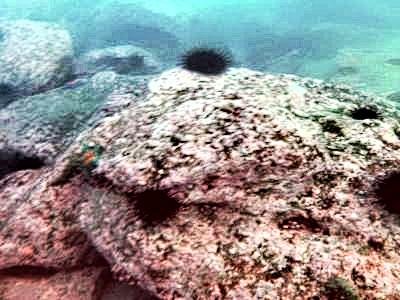urchin: (128, 180, 180, 224), (178, 44, 228, 76), (368, 164, 396, 216)
